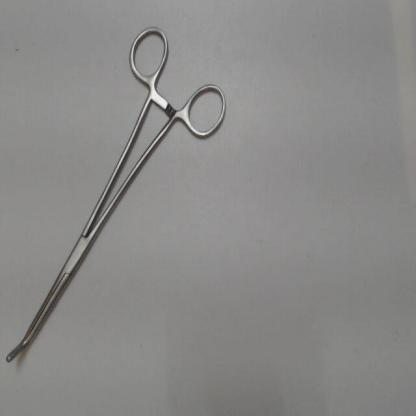Lahey Forceps: (2, 20, 235, 371)
